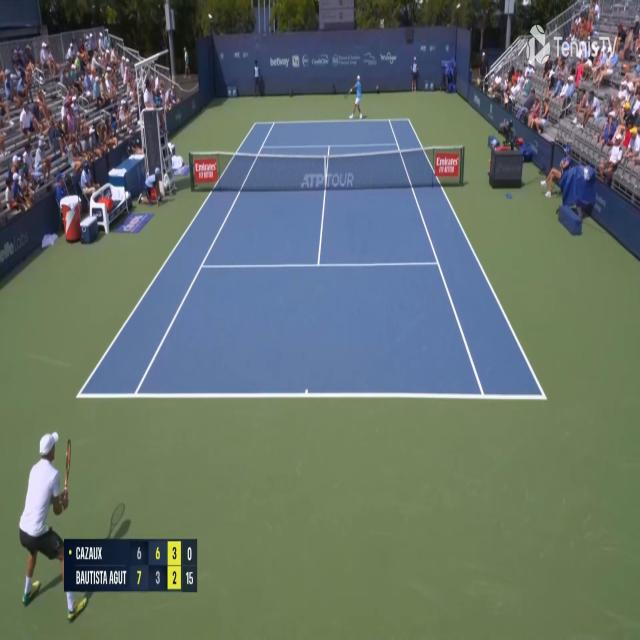tennis-player: (14, 425, 86, 632), (347, 73, 366, 123)
